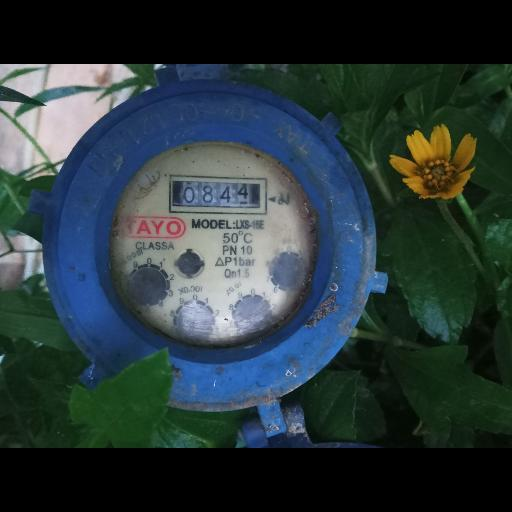0: (180, 181, 199, 205)
4: (234, 183, 252, 207), (218, 183, 235, 207)
8: (199, 182, 218, 206)
border_water_meter_number: (169, 175, 268, 215)
